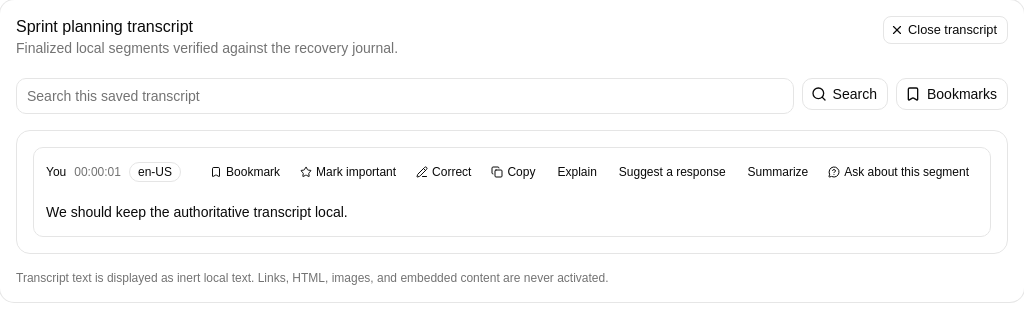
SavedTranscript › searches only within the selected session and never activates returned markup
Expected: the text "We should keep the authoritative transcript local." is shown, [46,204,348,220]
Type "authoritative" into the field named "Search saved transcript" at (405, 96), box [16,78,794,114]
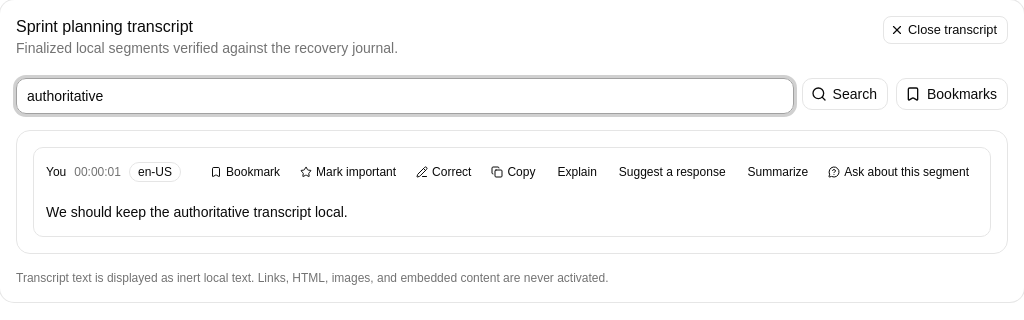
Click the button "Search" at (845, 94), box [802,78,888,110]
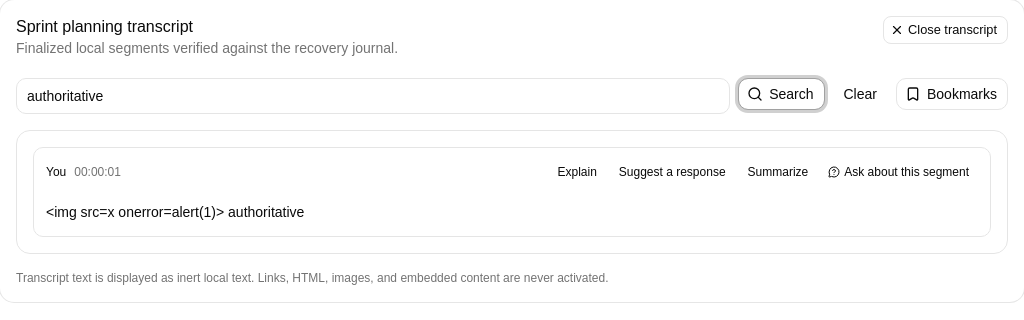
Expected: the text "<img src=x onerror=alert(1)> authoritative" is shown, [46,204,304,220]
